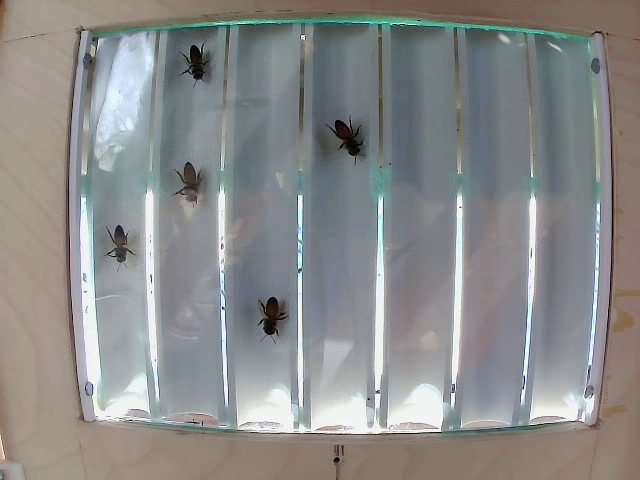bee: (328, 112, 368, 172), (184, 36, 222, 90), (98, 224, 143, 266), (169, 163, 214, 202), (249, 293, 285, 339)
